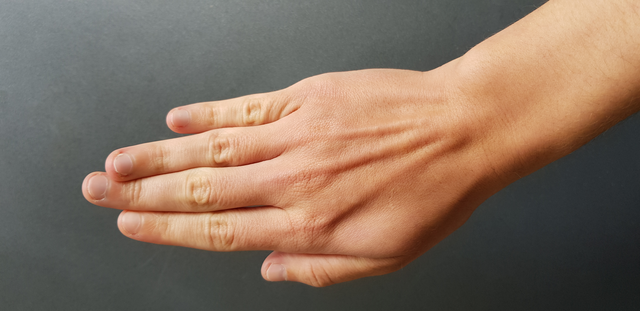Paper: (65, 50, 503, 292)
